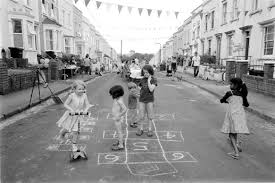Person: (216, 74, 257, 162), (56, 79, 101, 144), (102, 81, 134, 150), (134, 61, 161, 140)
